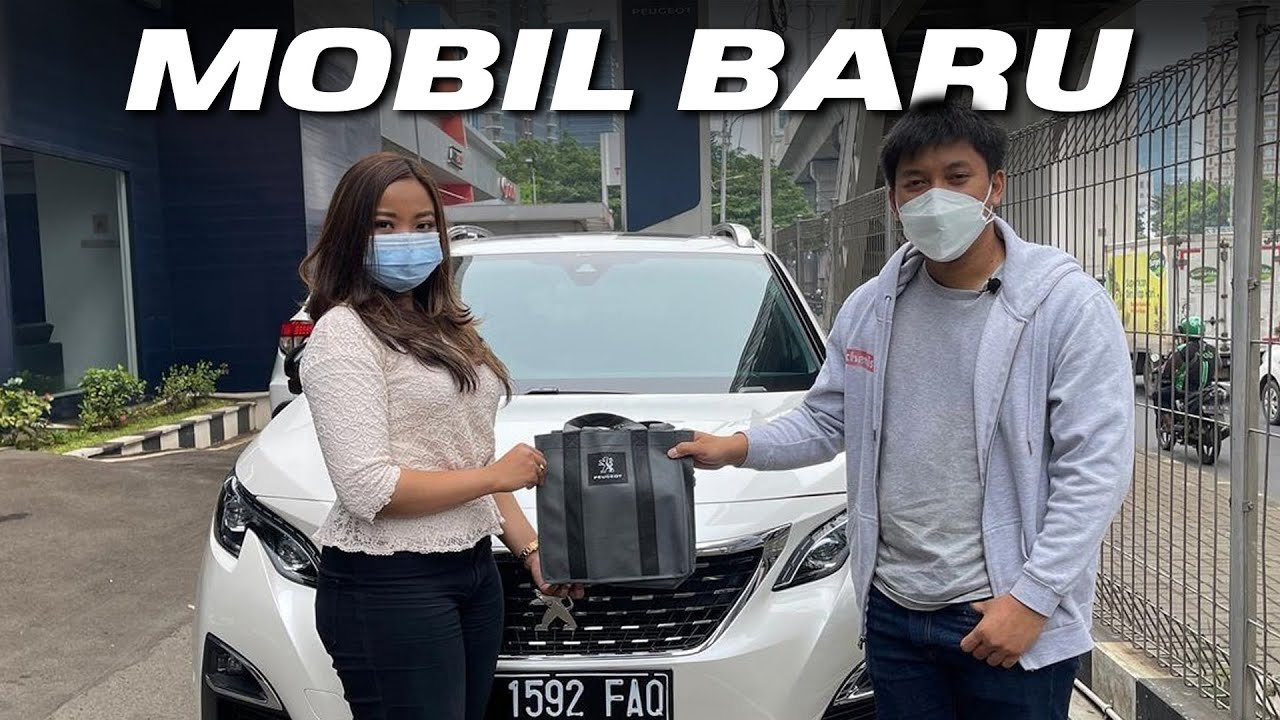mobil: (264, 244, 879, 720)
